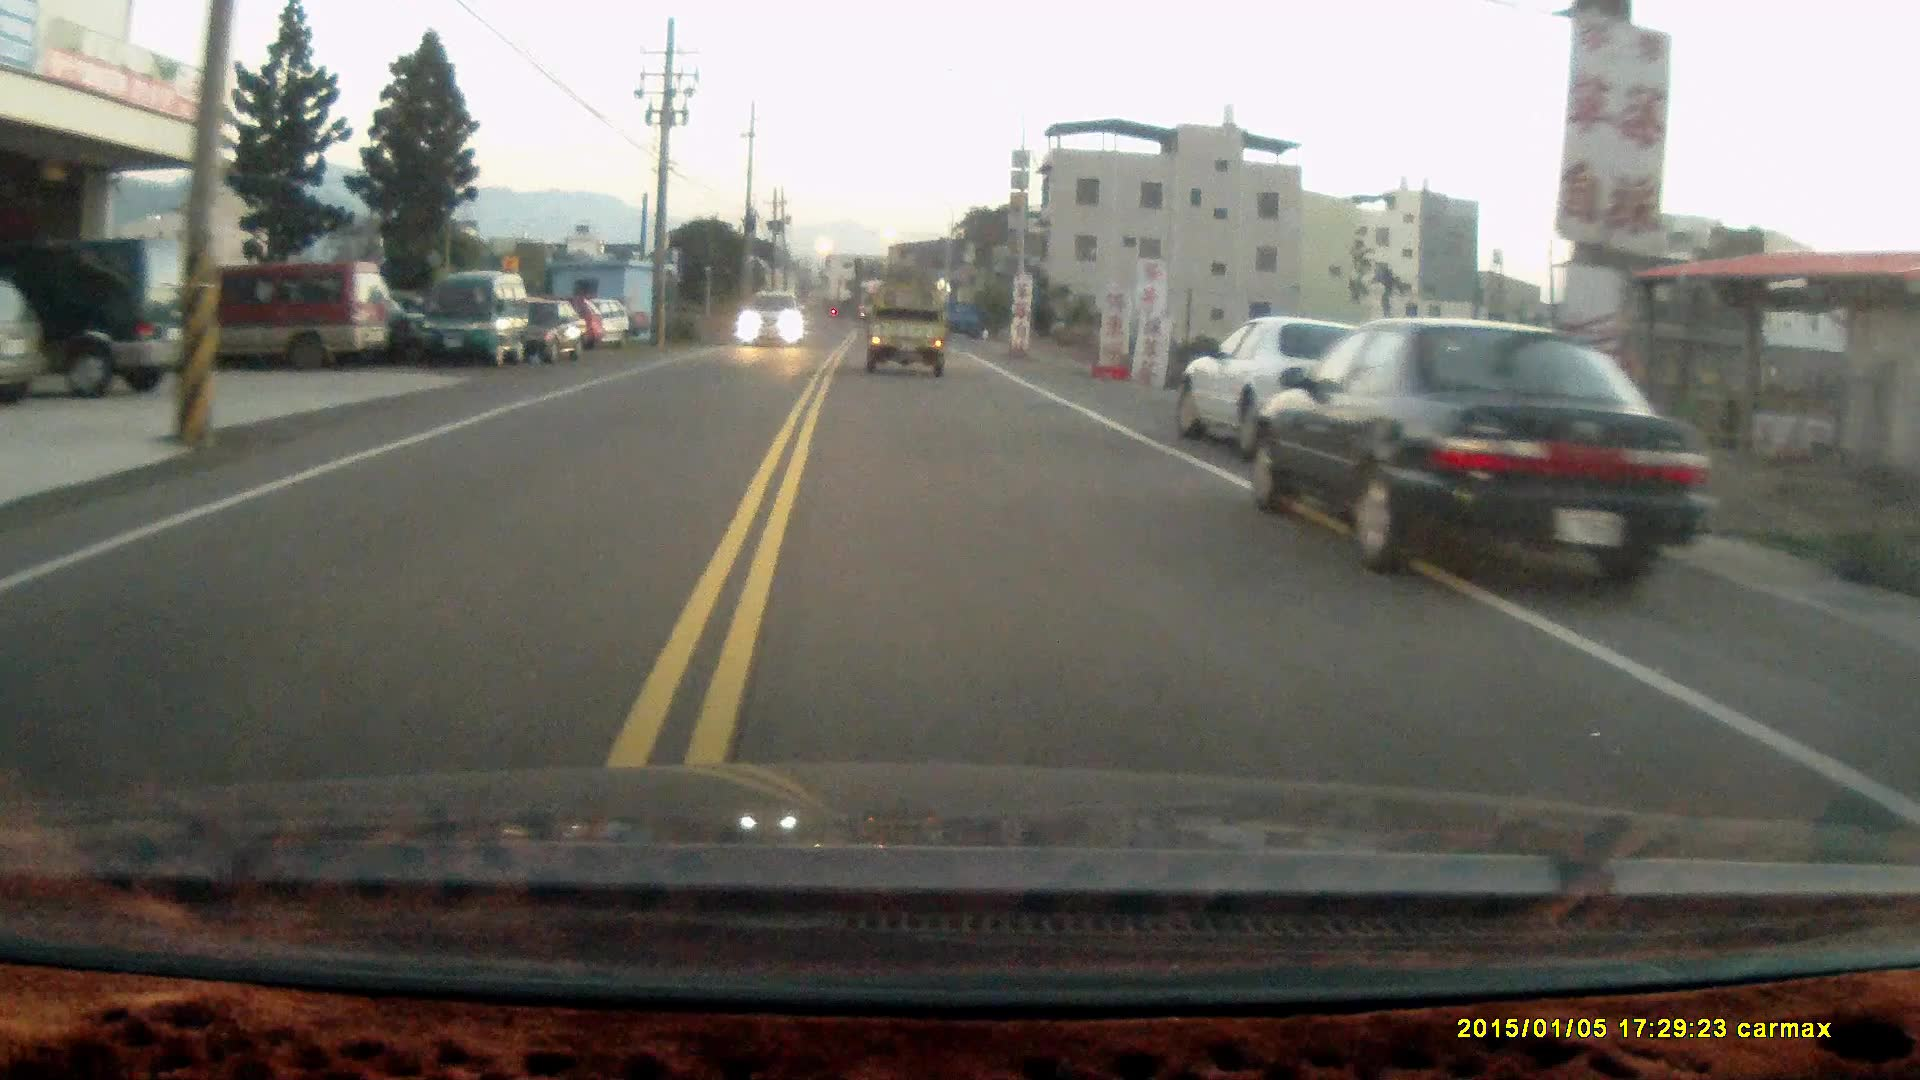vehicle: (1247, 318, 1698, 596), (0, 237, 214, 402), (189, 261, 397, 378), (1182, 318, 1348, 459), (419, 273, 534, 371), (866, 281, 945, 382), (493, 297, 588, 367), (1, 276, 51, 404), (733, 291, 811, 347)
